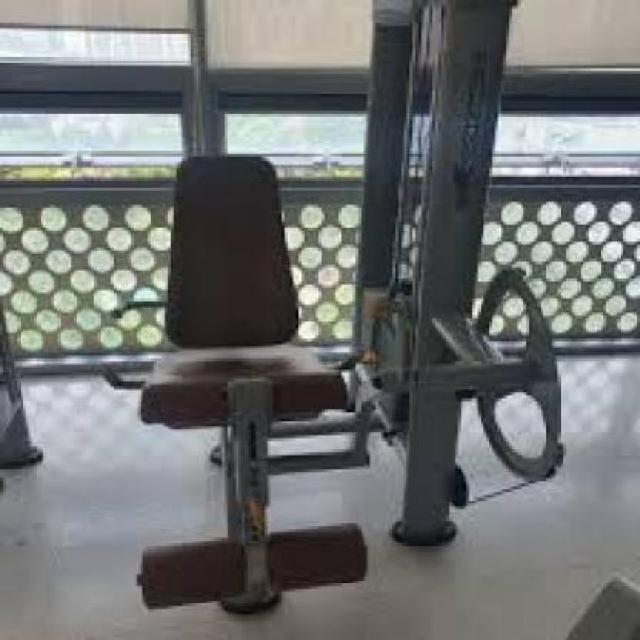leg extension: (44, 0, 574, 640)
